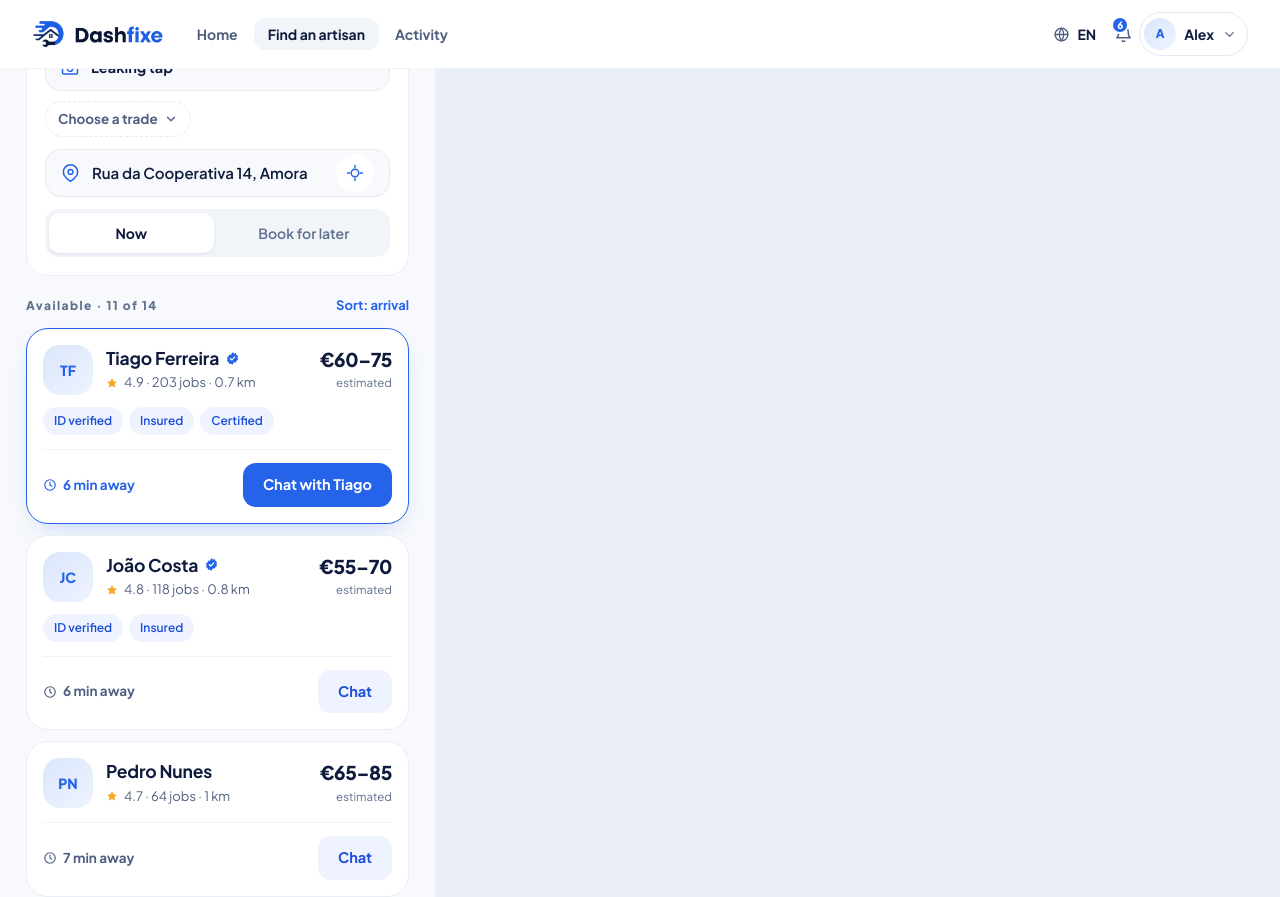
Scenario: /account (the customer dashboard) › spends the credit on the next booking, as its own line
(page scrolled)
Click the button "Chat with Tiago". click: (317, 485)
box: [243,463,392,507]
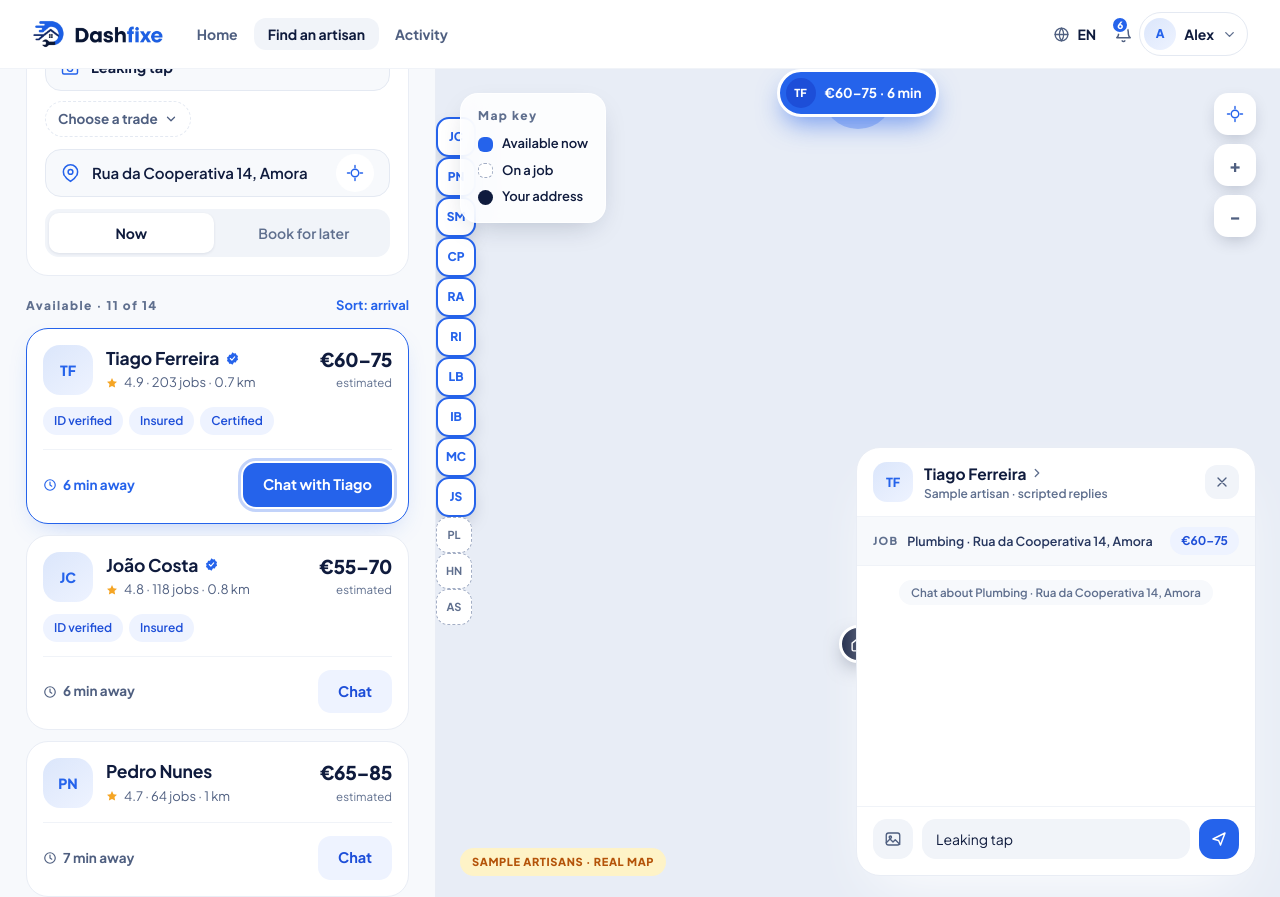
Click the button named "Send". click: (1219, 839)
box: [1199,819,1239,859]
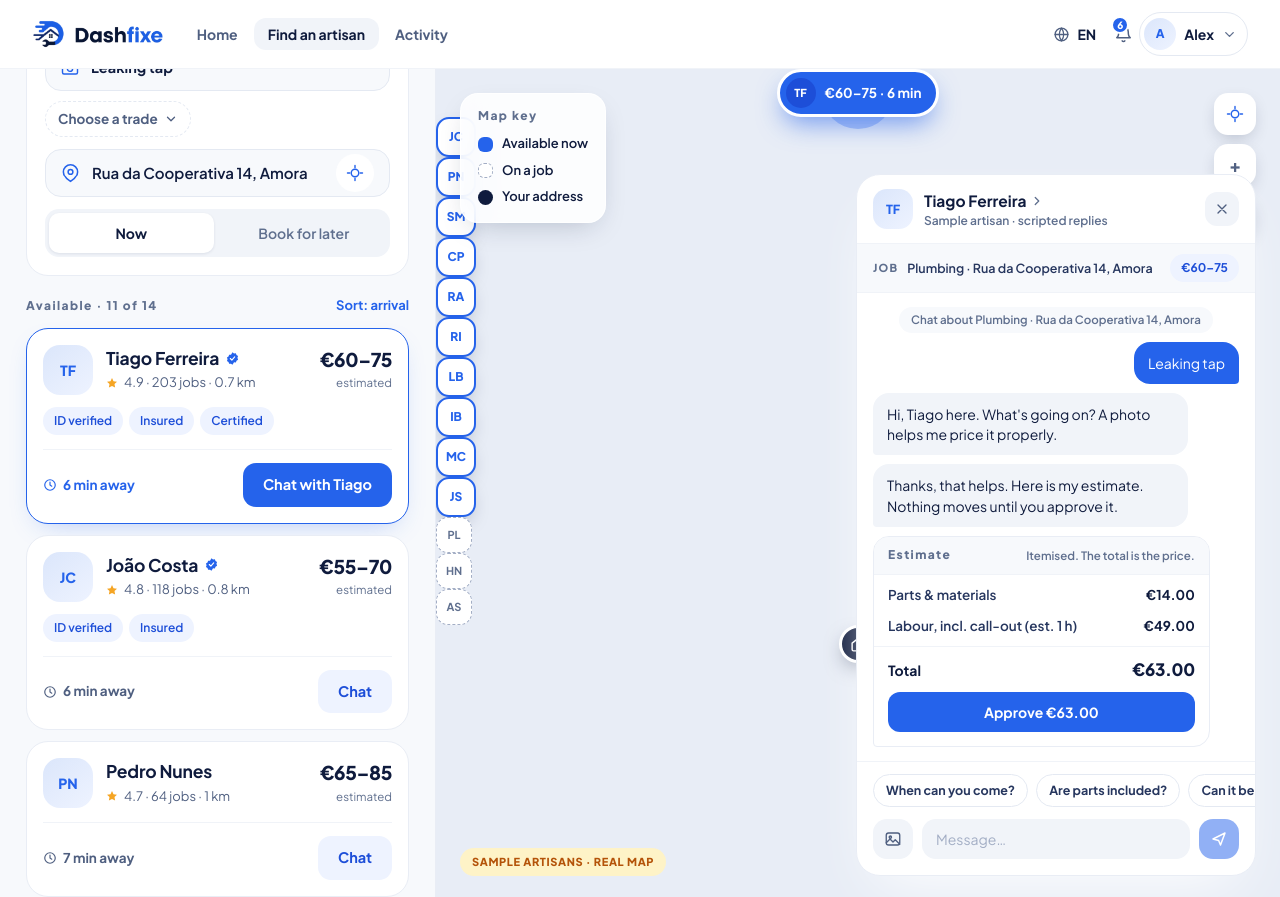
Click the button "Approve €63.00". click: (1041, 712)
box: [888,692,1195,732]
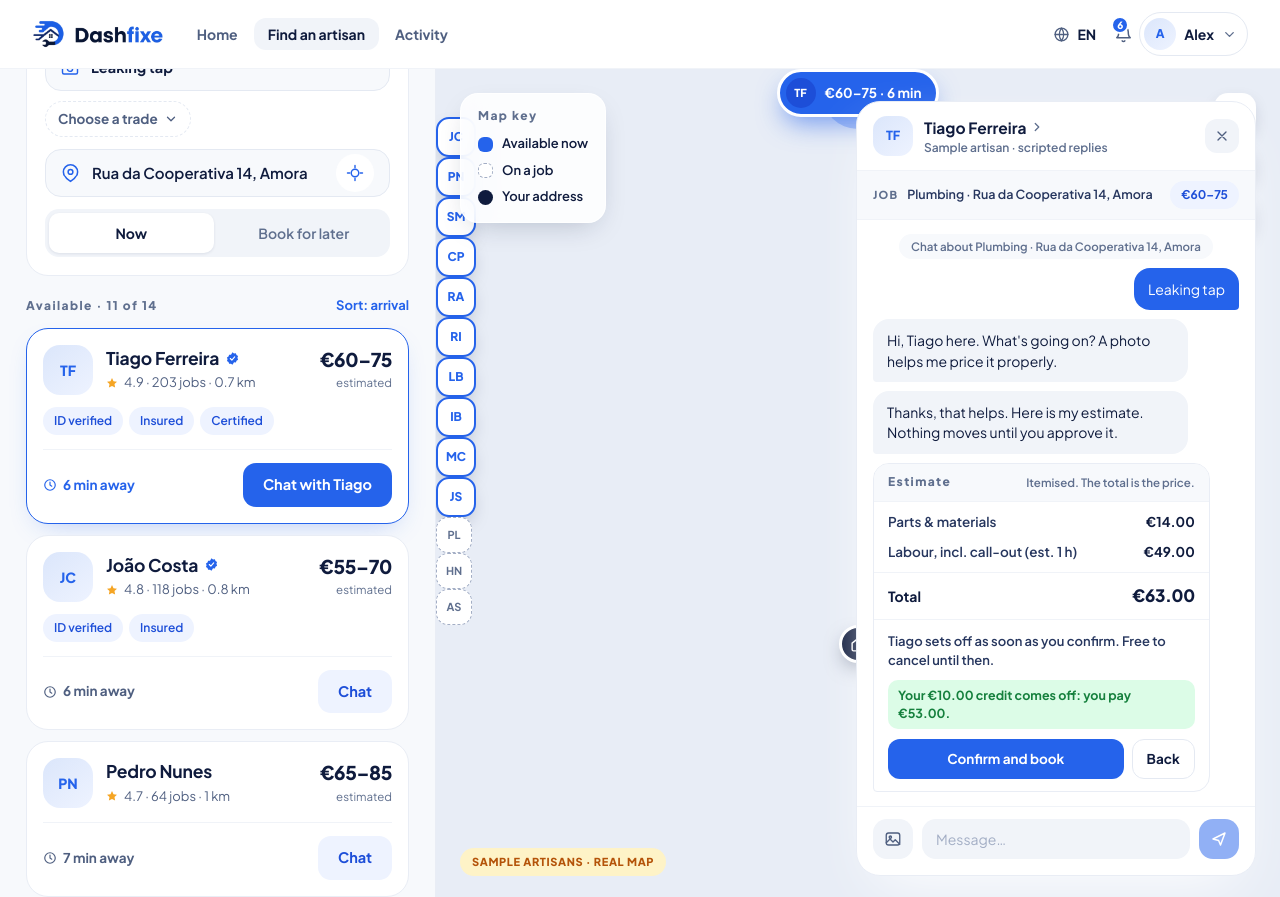
Check: the text "Your €10.00 credit comes off: you pay €53.00." is shown, box [888,680,1195,729]
Click the button "Confirm and book". click: (1006, 759)
box: [888,739,1124,779]
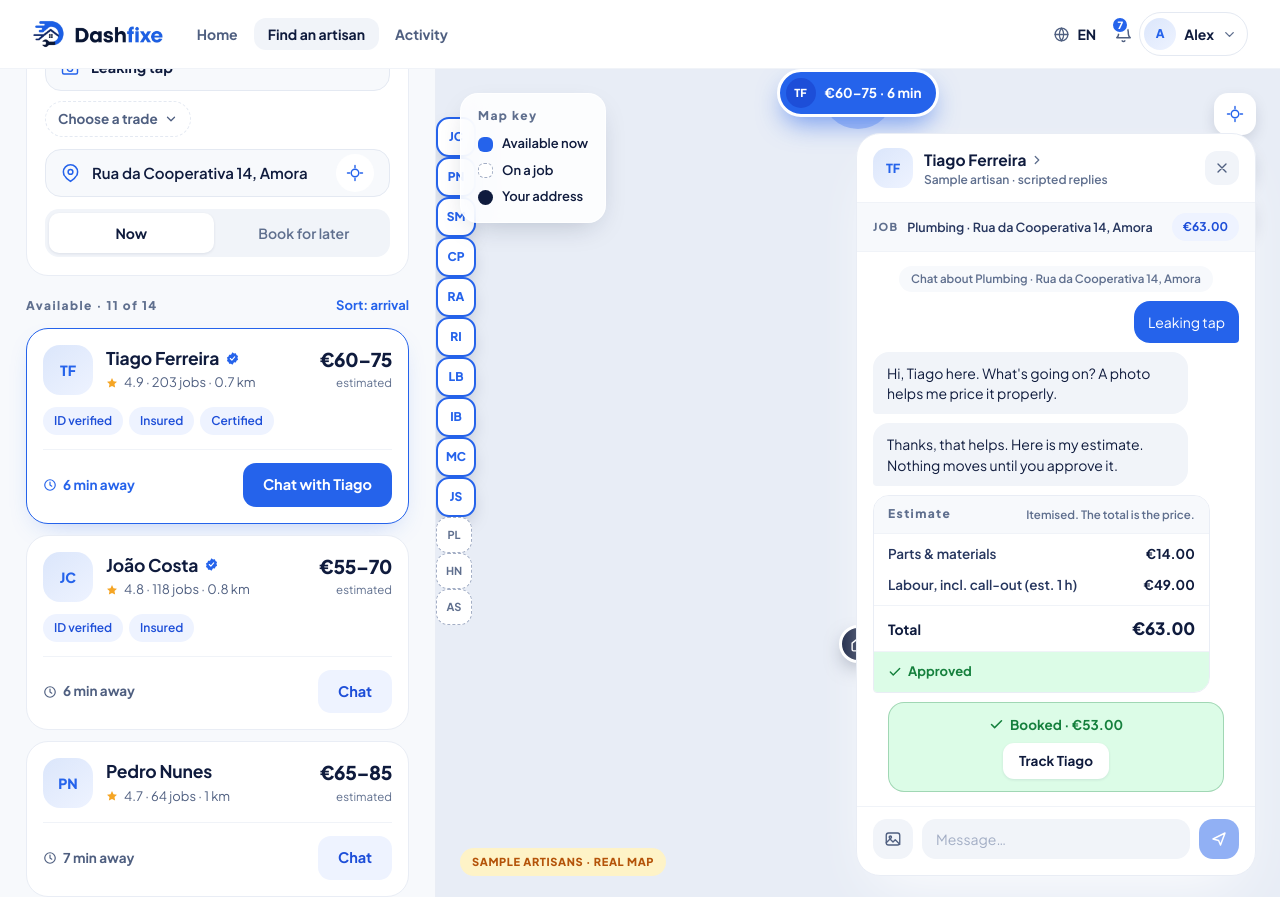
Click the link "Track Tiago". click: (1056, 761)
box: [1003,743,1109,779]
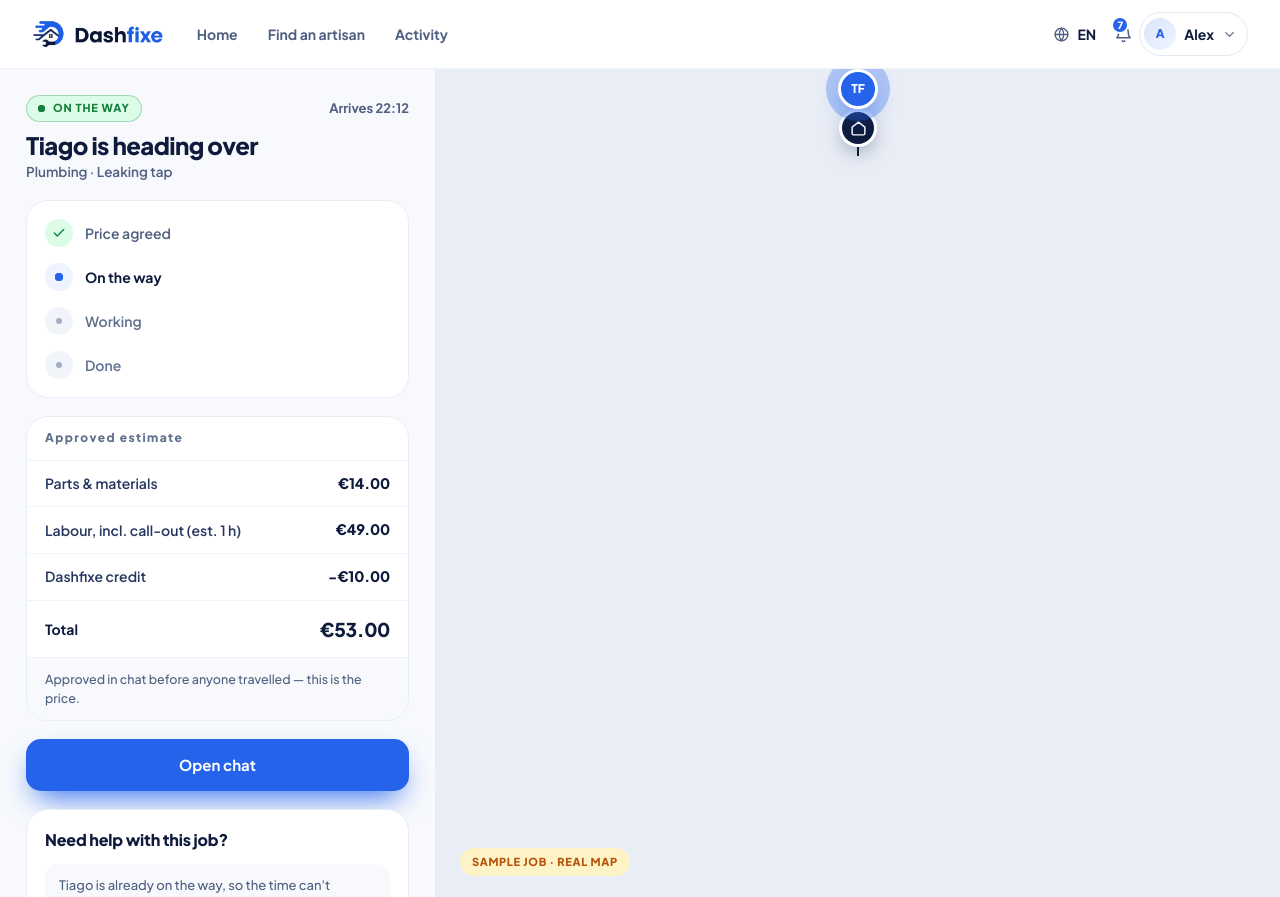
Check: the text "€53.00" is shown, box [320,615,390,643]
Check: the text "Dashfixe credit" is shown, box [45,566,146,587]
Check: the text "−€10.00" is shown, box [328,566,390,588]
